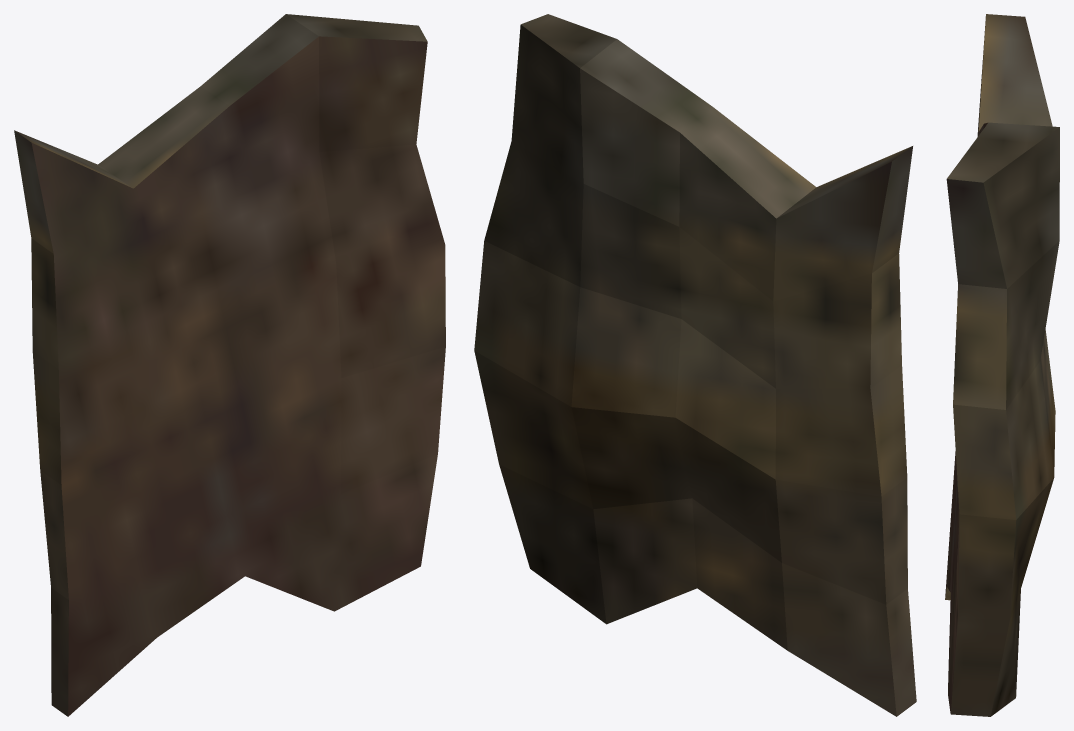
The model's file is SM_DeadTree_Debris_1.fbx.
3 views of the same model, side by side, from view 1: azimuth 30°, elevation 25°; view 2: azimuth 150°, elevation 25°; view 3: azimuth 270°, elevation 25° (orthographic). The views are drawn at different scales.
Visible parts, largest first — view 1: SM_DeadTree_Debris_1; view 2: SM_DeadTree_Debris_1; view 3: SM_DeadTree_Debris_1.
Part boxes in pixels (x1=…): SM_DeadTree_Debris_1: x1=14, y1=14, x2=445, y2=716; SM_DeadTree_Debris_1: x1=474, y1=14, x2=916, y2=716; SM_DeadTree_Debris_1: x1=945, y1=14, x2=1059, y2=716.
Bounding box in the file's own units: 21.25 × 29.35 × 4.97.
